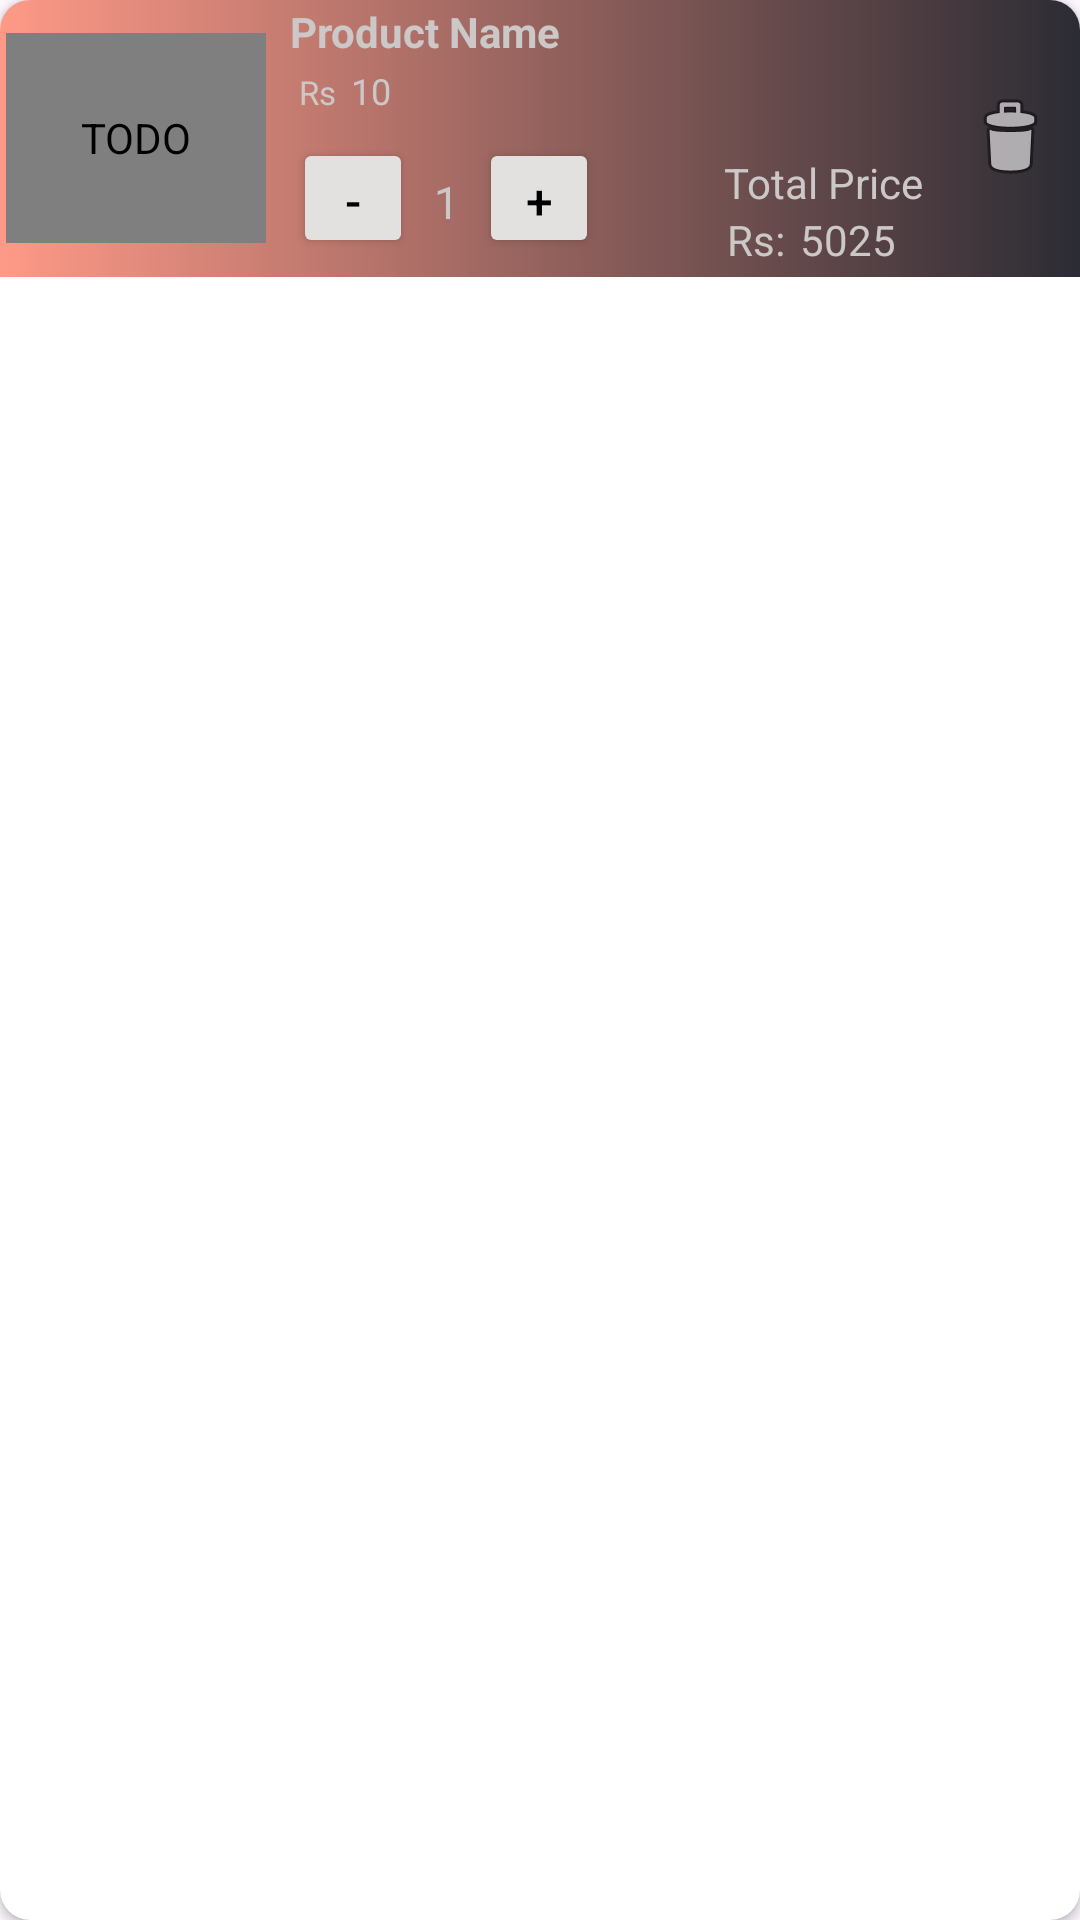

Icon click points for this 1080*1920 phone screenshot, format [x,y]:
delete: [1011,136]
